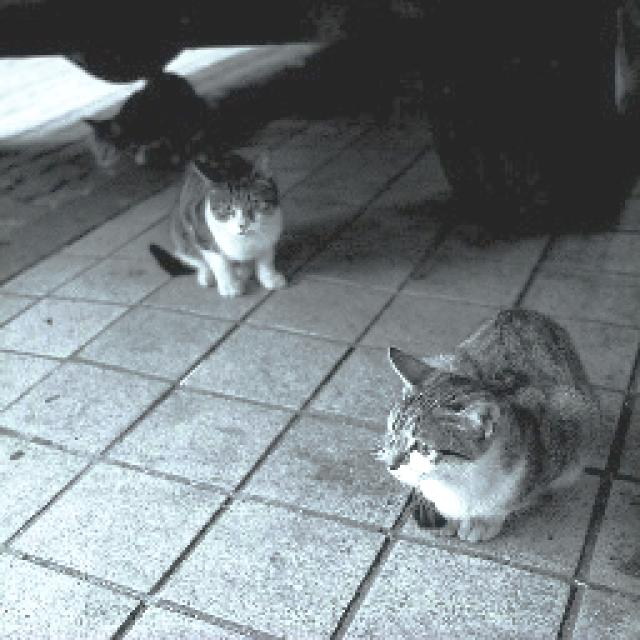cat: (357, 284, 628, 568), (131, 151, 326, 308), (66, 57, 226, 181)
